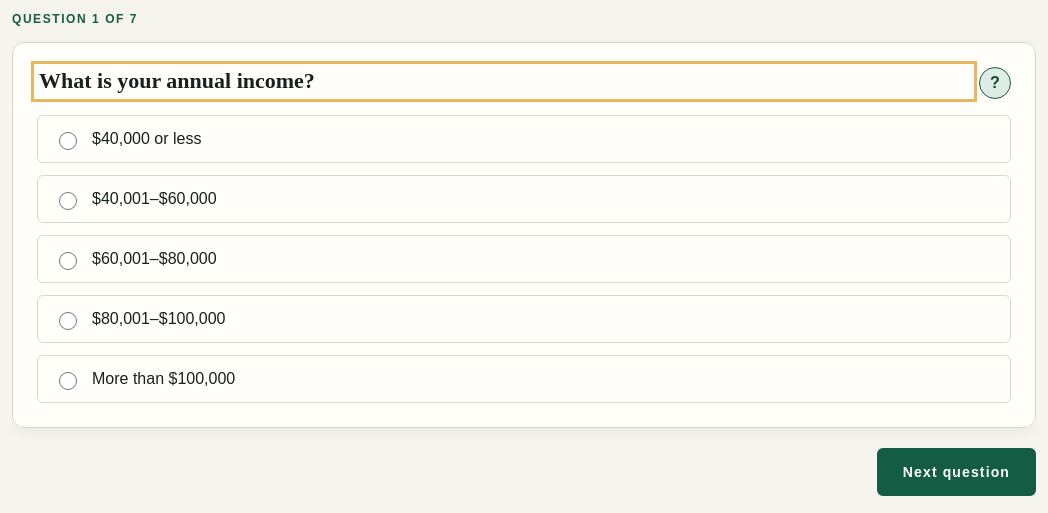
SurveyForm › shows one question at a time and preserves an answer when moving back
The width and height of the screenshot is (1048, 513).
Check: the text "Question 1 of 7" is shown, box 12,12 -> 138,26
Check: the text "What is your credit score range?" is not shown
Click the radio button labelled "$40,001–$60,000" at (68, 200), box 59,192 -> 77,210
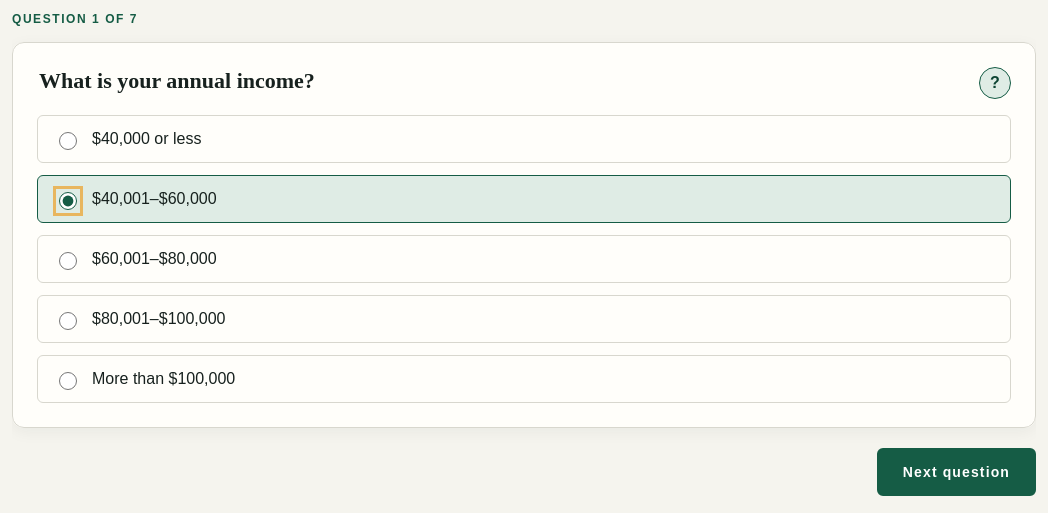
Click the button "Next question" at (956, 472), box 877,448 -> 1036,496
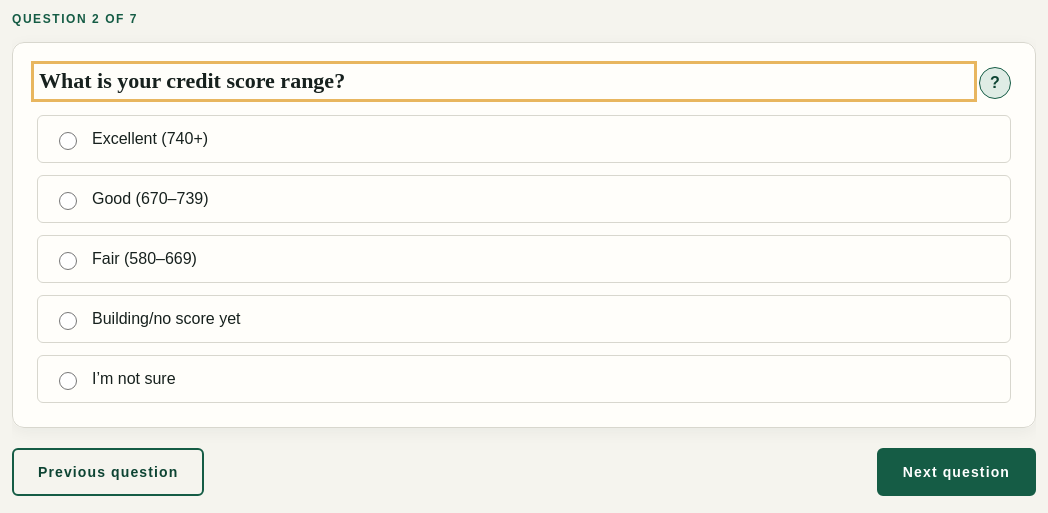
Click the button "Previous question" at (108, 472), box 12,448 -> 204,496
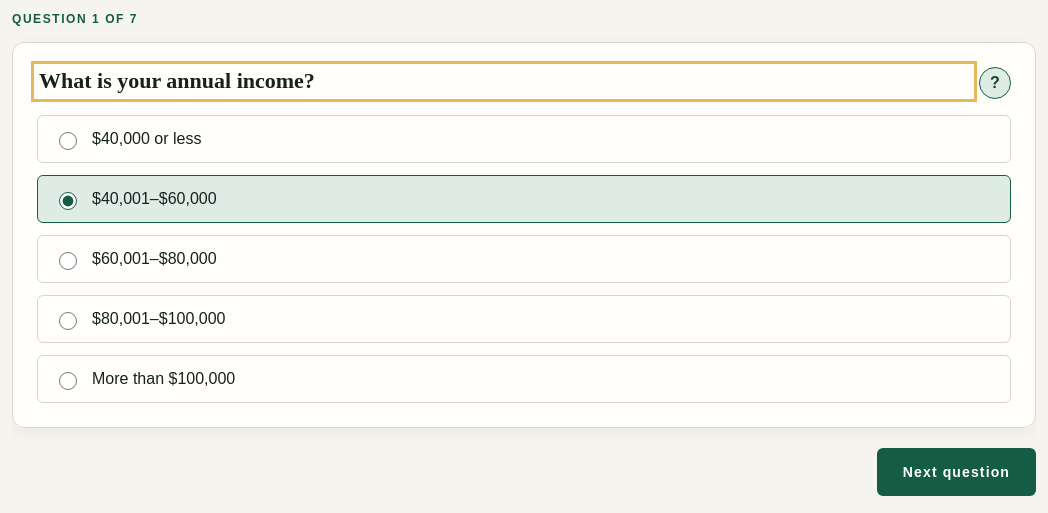
Check: the radio button labelled "$40,001–$60,000" is checked, box 59,192 -> 77,210
